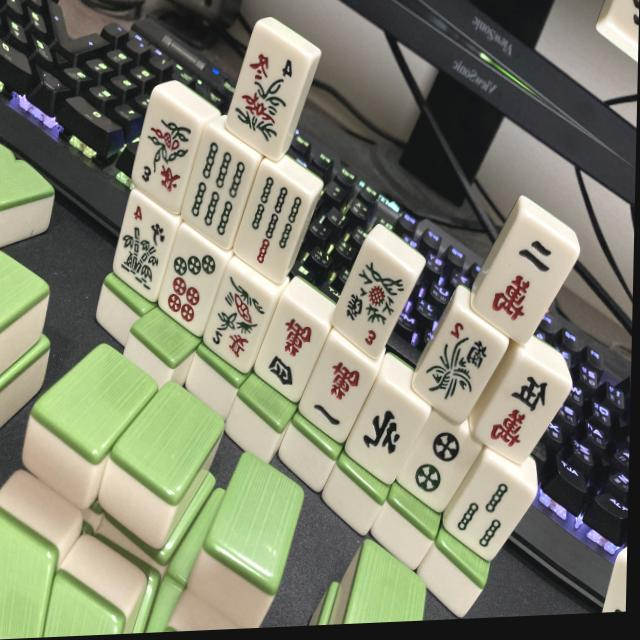f2: (407, 302, 515, 427)
f3: (325, 239, 419, 365)
f4: (108, 190, 181, 299)
ff2: (197, 265, 284, 375)
ff3: (126, 100, 215, 216)
ff4: (219, 21, 320, 164)
m1: (293, 335, 383, 448)
m2: (466, 199, 587, 348)
m4: (248, 297, 334, 404)
m5: (469, 351, 574, 470)
north: (340, 376, 434, 486)
s3: (436, 453, 536, 567)
s6: (171, 130, 264, 251)
s7: (225, 166, 319, 285)
t2: (395, 406, 490, 514)
t7: (150, 232, 231, 336)
